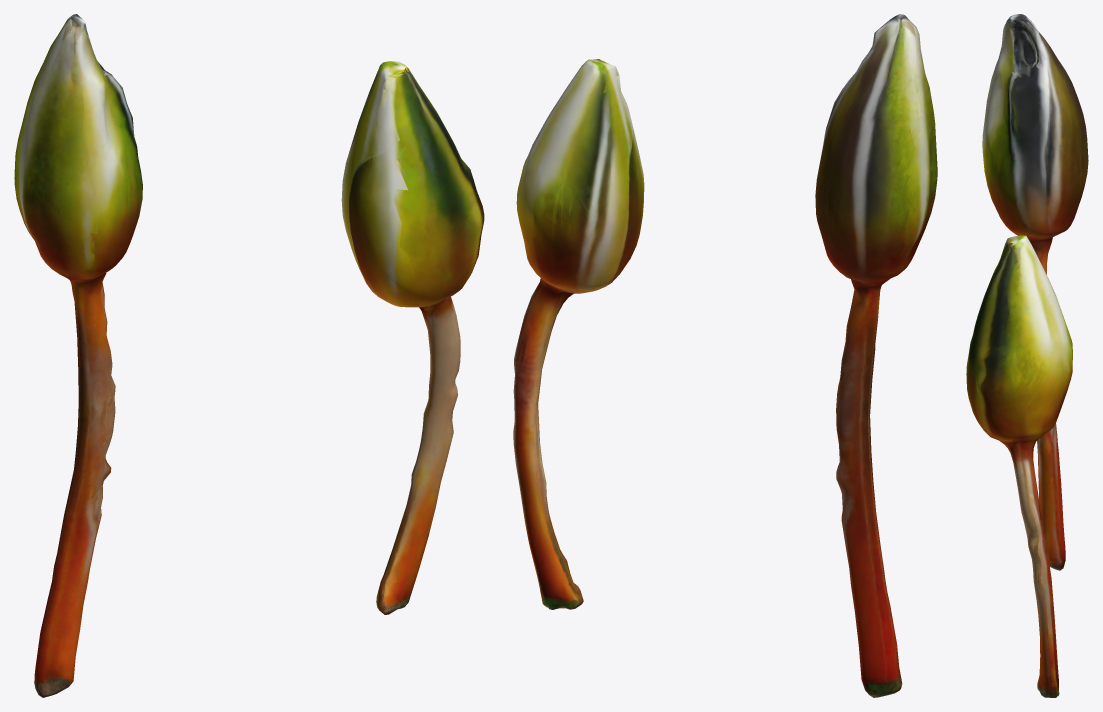
The model's file is Lily_Bud.glb.
The picture shows the model from 3 angles, left to right: view 1: azimuth 30°, elevation 25°; view 2: azimuth 150°, elevation 25°; view 3: azimuth 270°, elevation 25°; orthographic projection. The views are drawn at different scales.
Visible parts, largest first — view 1: Mesh1; view 2: Mesh1; view 3: Mesh1.
Boxes of the visible parts, box(x1,y1,x2,y2) form: Mesh1: box(14, 14, 484, 697); Mesh1: box(513, 14, 937, 697); Mesh1: box(966, 14, 1088, 697).
Bounding box in the file's own units: 1.22 × 1.85 × 0.3681.
Materials: 1 (1 with a texture image).
